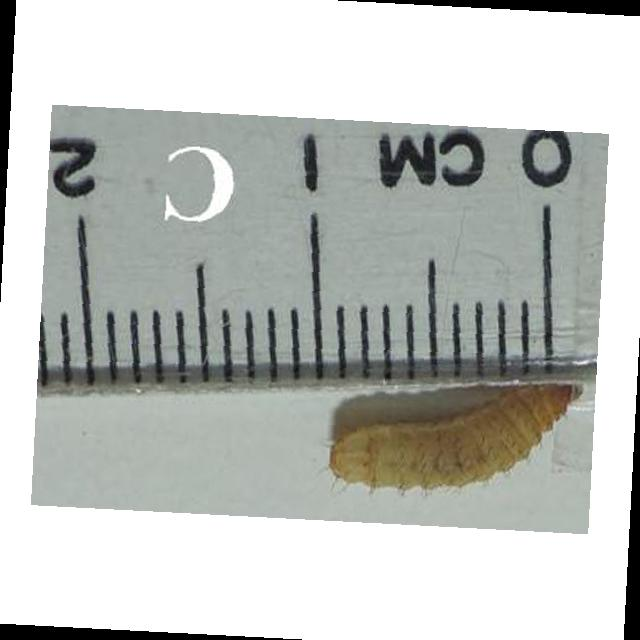Maggot: (326, 380, 589, 495)
